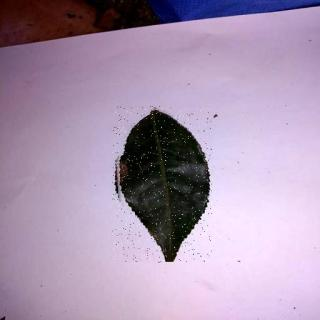Anthracnose: (113, 108, 213, 263)
